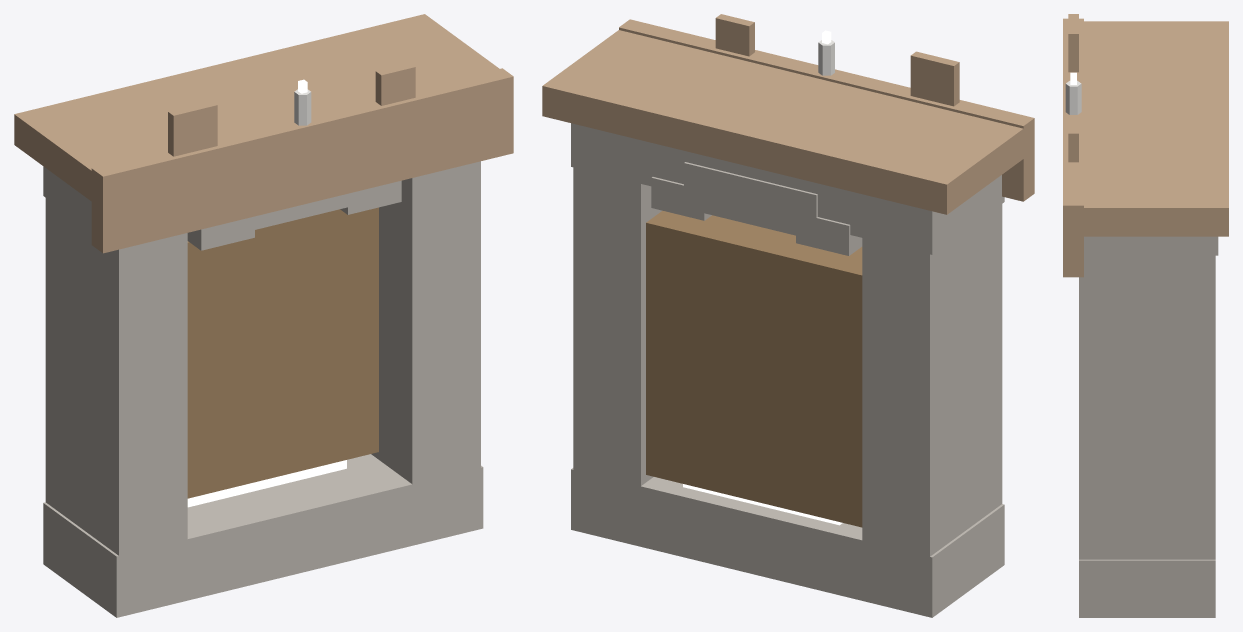
The model's file is fireplace.glb.
3 views of the same model, side by side, from view 1: azimuth 30°, elevation 25°; view 2: azimuth 150°, elevation 25°; view 3: azimuth 270°, elevation 25° (orthographic). The views are drawn at different scales.
Parts seen in each view (by area): view 1: Fireplace; view 2: Fireplace; view 3: Fireplace.
Boxes of the visible parts, x1=… form: Fireplace: x1=14, y1=14, x2=513, y2=617; Fireplace: x1=542, y1=14, x2=1034, y2=617; Fireplace: x1=1063, y1=14, x2=1228, y2=617.
Bounding box in the file's own units: 1.68 × 1.93 × 0.63.
